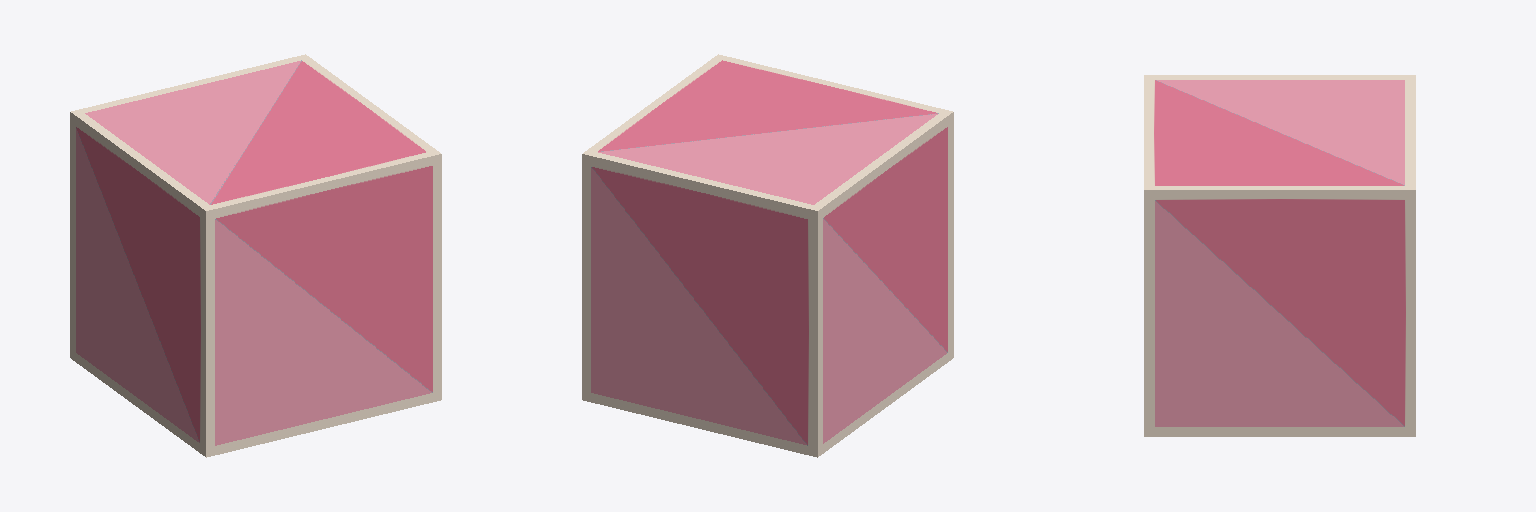
3 views of the same model, side by side, from view 1: azimuth 30°, elevation 25°; view 2: azimuth 150°, elevation 25°; view 3: azimuth 270°, elevation 25° (orthographic).
Parts seen in each view (by area): view 1: Cube; view 2: Cube; view 3: Cube.
Boxes of the visible parts, <box> form: Cube: <box>70,54,441,457</box>; Cube: <box>582,54,953,457</box>; Cube: <box>1144,75,1415,436</box>.
Size of the model in its own units: 2 by 2 by 2.
1 materials, 1 textured.